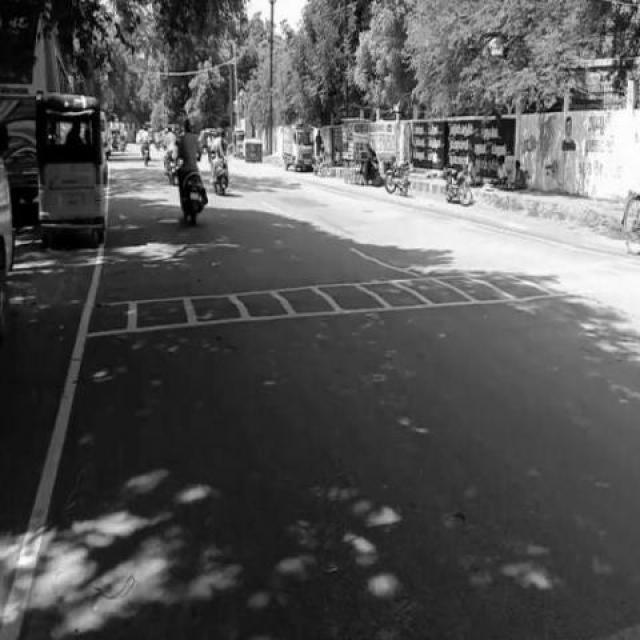Speed Bump: (81, 252, 632, 340)
